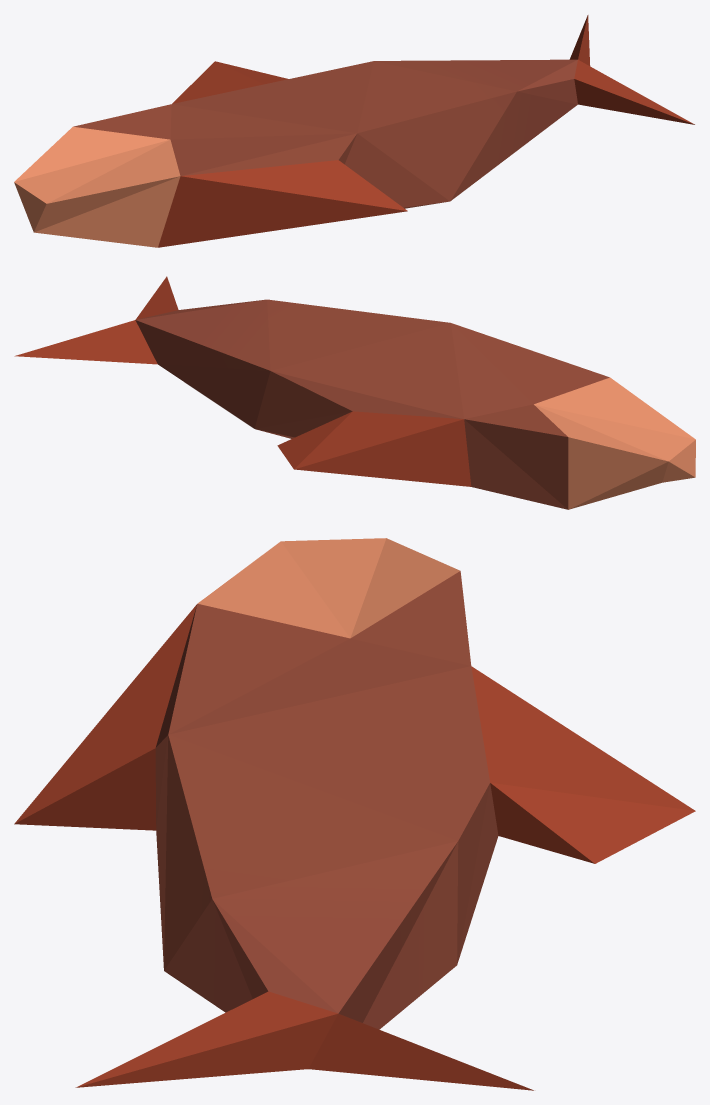
Rendered from Fish_02.glb.
3 renders of one model, top to bottom at view 1: azimuth 30°, elevation 25°; view 2: azimuth 150°, elevation 25°; view 3: azimuth 270°, elevation 25°, orthographic. The views are drawn at different scales.
Visible parts, largest first — view 1: Fish_02; view 2: Fish_02; view 3: Fish_02.
Part boxes in pixels (bbox=[...]): Fish_02: bbox=[14, 15, 694, 247]; Fish_02: bbox=[14, 276, 695, 509]; Fish_02: bbox=[14, 538, 695, 1090].
Size of what is drawn, in the model's own units: 0.4249 by 0.0587 by 0.2302.
Materials: 1 (1 with a texture image).
